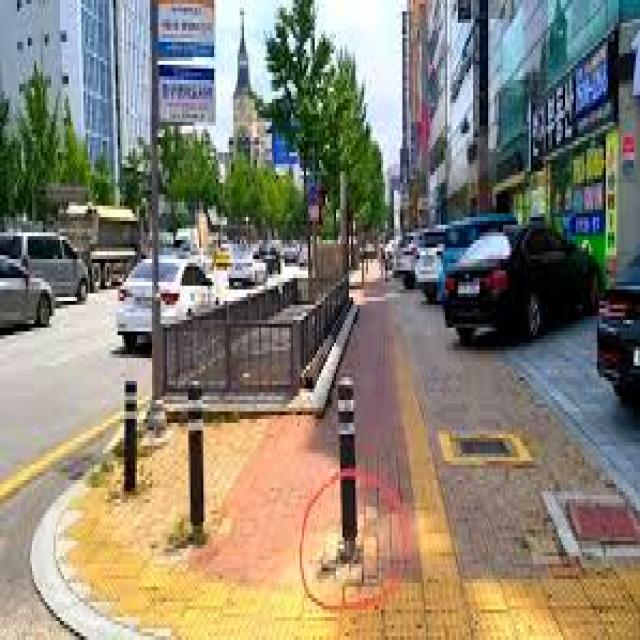bollard: (330, 360, 362, 580), (177, 367, 212, 551), (116, 364, 144, 495)
